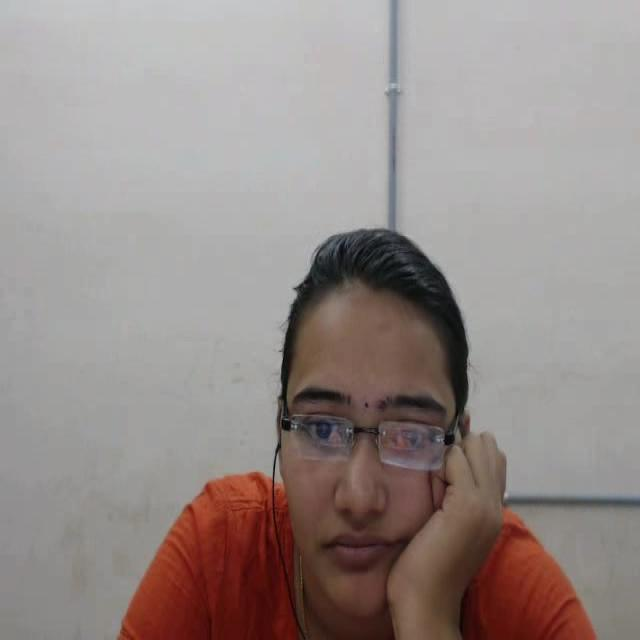Bored: (251, 186, 523, 618)
